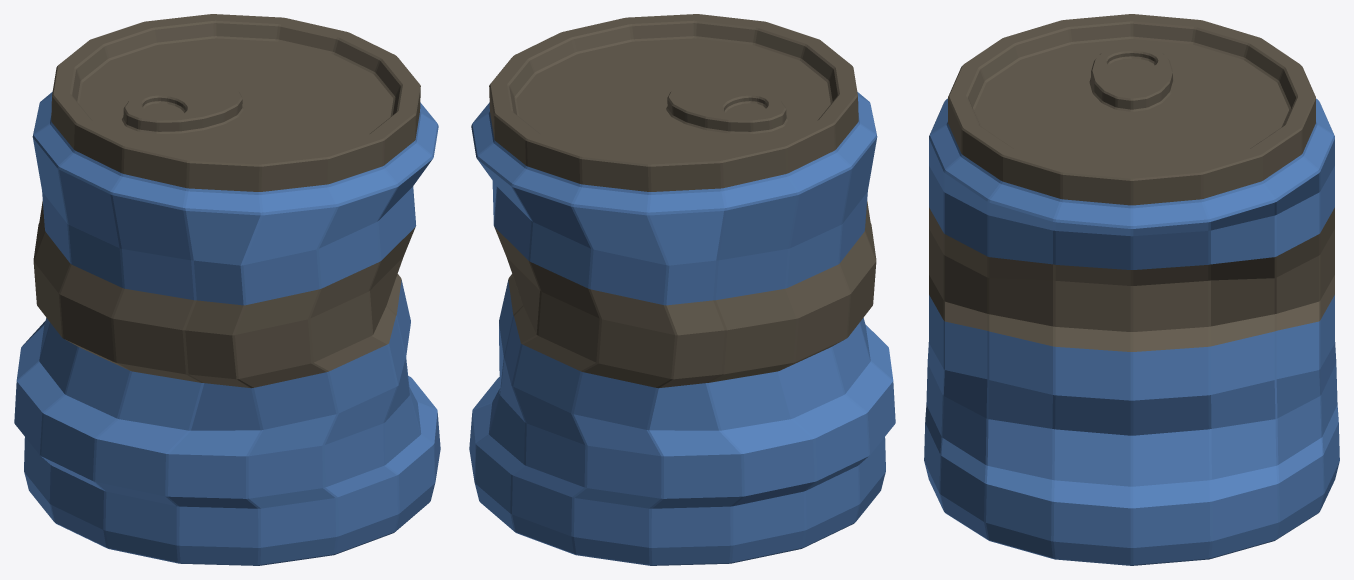
File: Can_4_Partyassets.fbx
The picture shows the model from 3 angles, left to right: view 1: azimuth 30°, elevation 25°; view 2: azimuth 150°, elevation 25°; view 3: azimuth 270°, elevation 25°; orthographic projection.
Visible parts, largest first — view 1: Can_4_Partyassets; view 2: Can_4_Partyassets; view 3: Can_4_Partyassets.
Boxes of the visible parts, x1,y1,x2,y2 form: Can_4_Partyassets: (14,14,440,565); Can_4_Partyassets: (469,14,895,565); Can_4_Partyassets: (924,14,1339,565).
Bounding box in the file's own units: 7.4 × 7.49 × 7.21.
